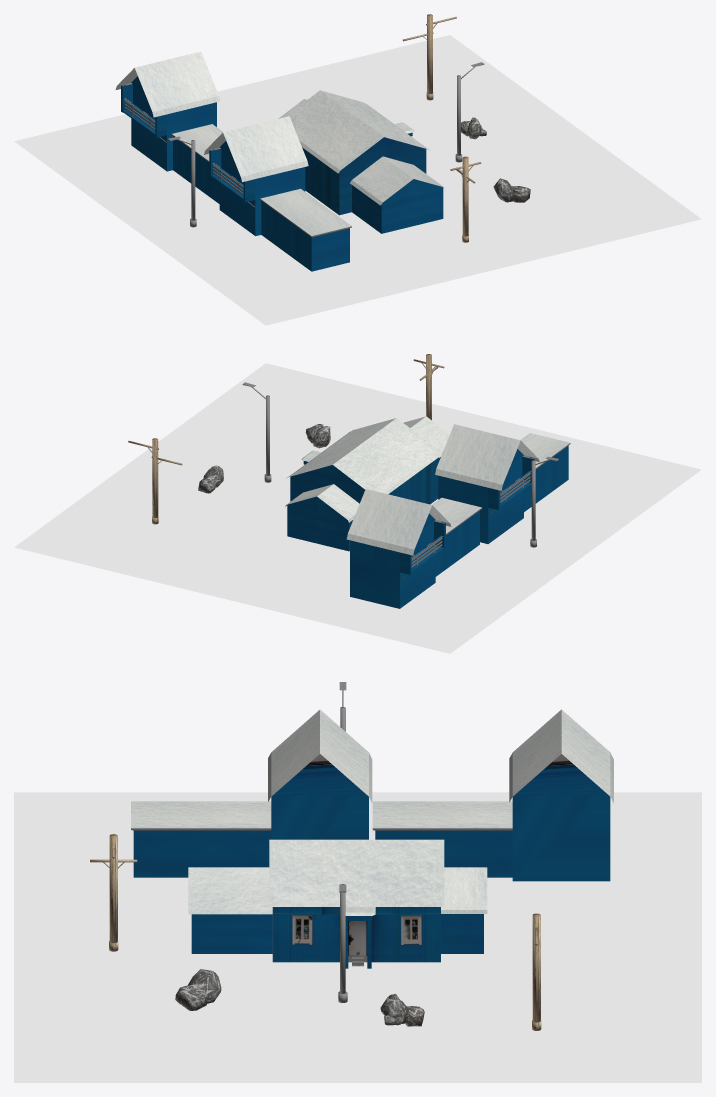
File: escenario chaletspasillo.glb
3 views of the same model, one above another, from view 1: azimuth 30°, elevation 25°; view 2: azimuth 150°, elevation 25°; view 3: azimuth 270°, elevation 25° (orthographic). The views are drawn at different scales.
Visible parts, largest first — view 1: Piso.col.006-col, Cuerpo Principal.col.003-col, Base Luz.col.003-col, Piedra 4.col.002-col; view 2: Piso.col.006-col, Cuerpo Principal.col.003-col, Base Luz.col.003-col, Piedra 4.col.002-col; view 3: Piso.col.006-col, Cuerpo Principal.col.003-col, Base Luz.col.003-col, Piedra 4.col.002-col.
Boxes of the visible parts, x1,y1,x2,y2 form: Piso.col.006-col: (14, 35, 701, 325); Cuerpo Principal.col.003-col: (115, 51, 445, 271); Base Luz.col.003-col: (167, 14, 484, 242); Piedra 4.col.002-col: (461, 117, 530, 202); Piso.col.006-col: (14, 363, 701, 653); Cuerpo Principal.col.003-col: (285, 416, 570, 608); Base Luz.col.003-col: (128, 354, 558, 547); Piedra 4.col.002-col: (198, 424, 330, 493); Piso.col.006-col: (14, 792, 701, 1082); Cuerpo Principal.col.003-col: (131, 709, 613, 968); Base Luz.col.003-col: (90, 682, 541, 1030); Piedra 4.col.002-col: (175, 969, 424, 1026).
Size of the model in its own units: 10 by 2.1 by 10.
Materials: 7 (5 with a texture image).
